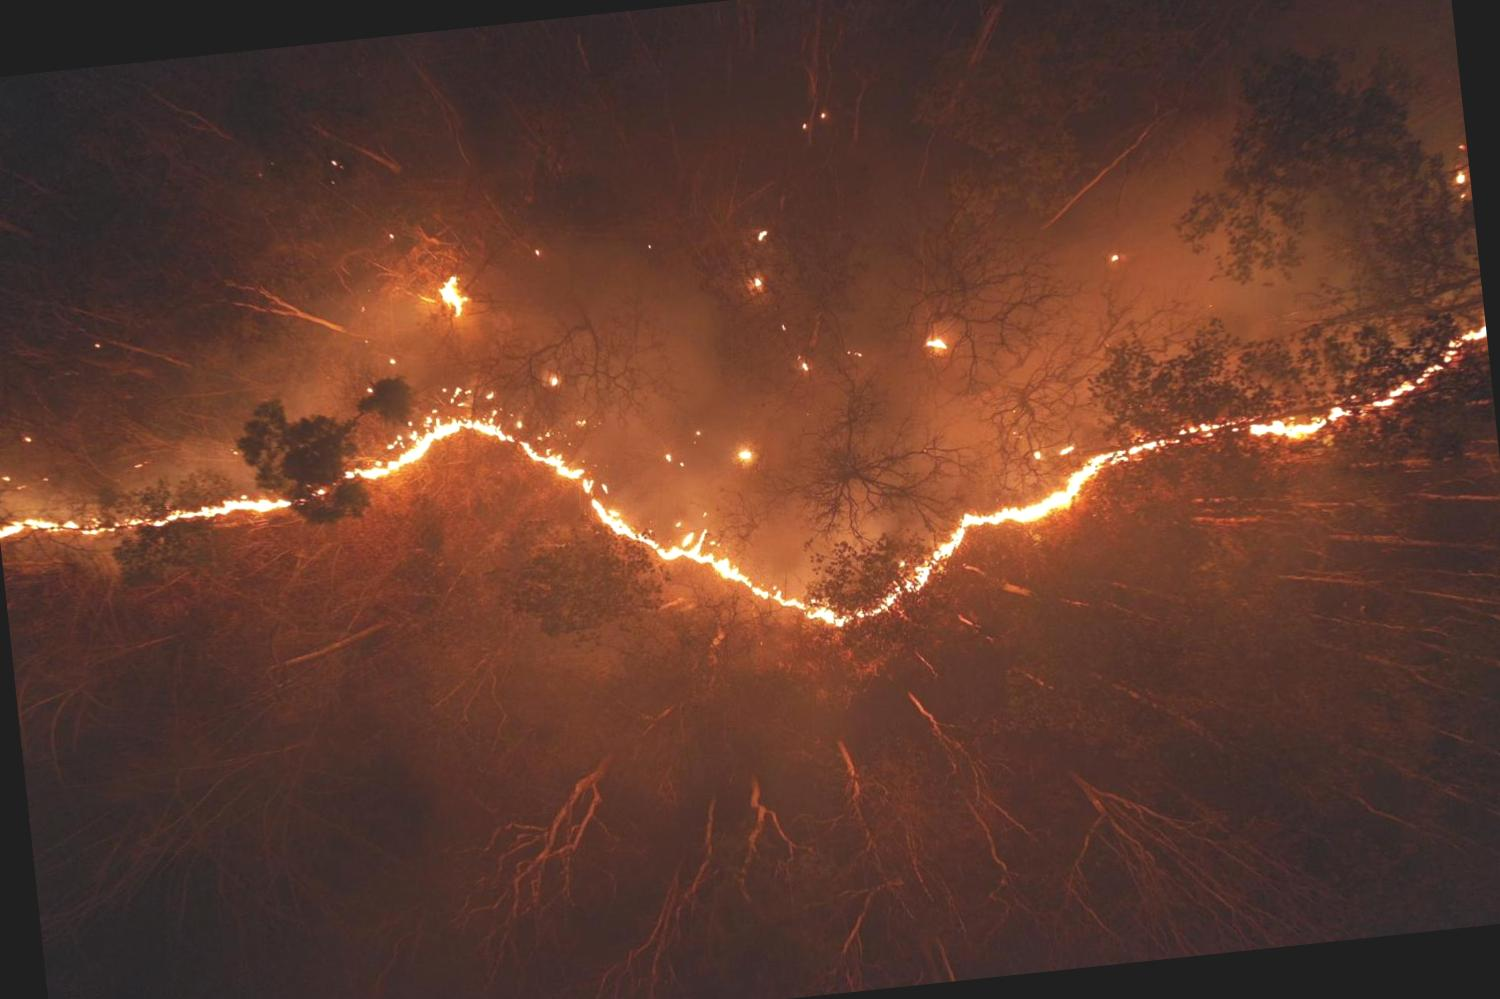fire: (552, 445, 743, 595), (929, 443, 1131, 557), (8, 488, 303, 553), (345, 415, 538, 485), (1345, 329, 1490, 419), (1138, 407, 1341, 469), (758, 561, 898, 640)
